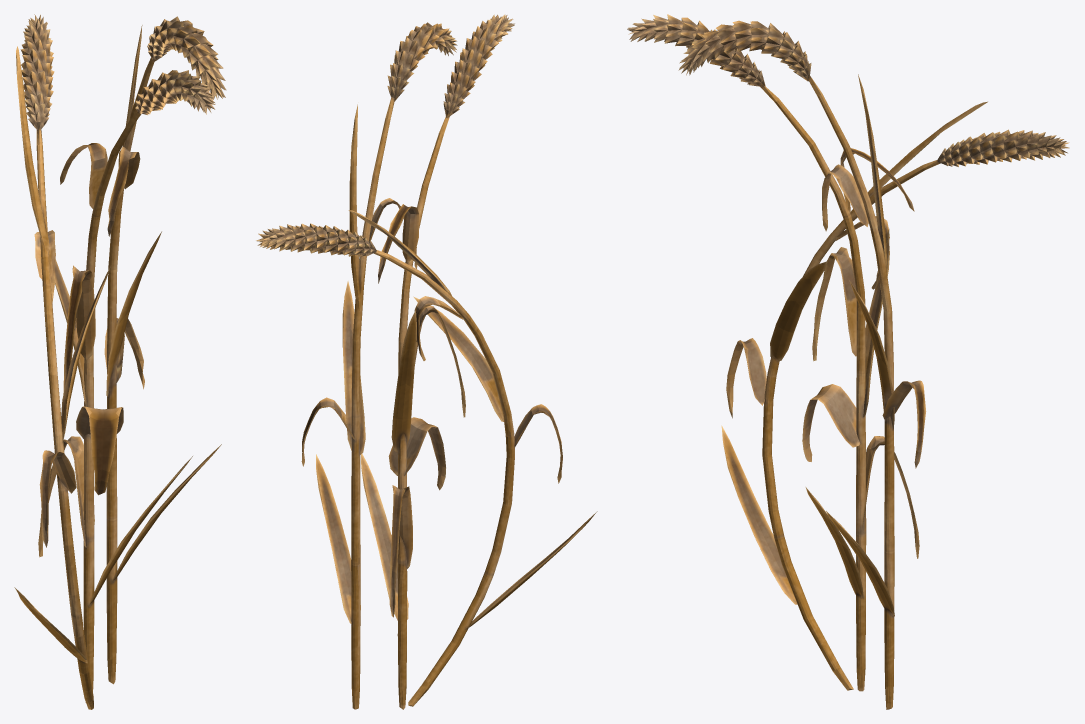
File: SM_Clump_03.fbx
3 renders of one model, left to right at view 1: azimuth 30°, elevation 25°; view 2: azimuth 150°, elevation 25°; view 3: azimuth 270°, elevation 25°, orthographic. The views are drawn at different scales.
Parts seen in each view (by area): view 1: SM_Clump_03_LOD0; view 2: SM_Clump_03_LOD0; view 3: SM_Clump_03_LOD0.
Part boxes in pixels (left/top/right/bottom): SM_Clump_03_LOD0: left=14, top=14, right=226, bottom=709; SM_Clump_03_LOD0: left=256, top=14, right=597, bottom=709; SM_Clump_03_LOD0: left=627, top=14, right=1069, bottom=709.
Bounding box in the file's own units: 72.23 × 110 × 188.
Materials: 1 (1 with a texture image).
